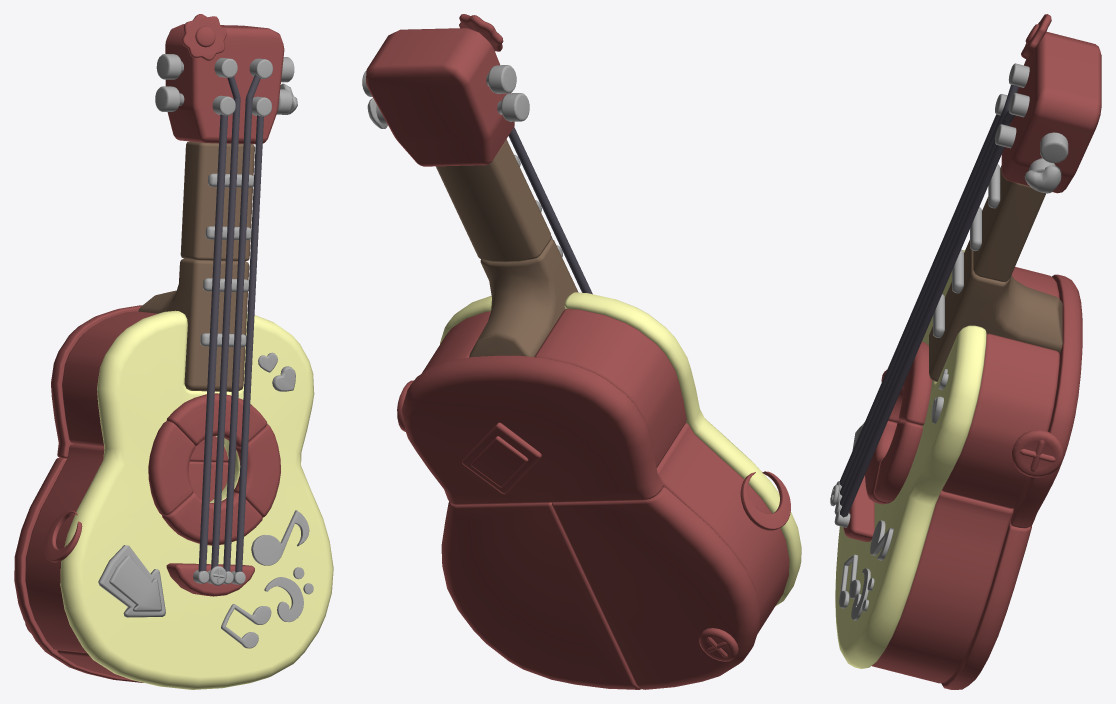
File: Guitar_Fix01.fbx
3 renders of one model, left to right at view 1: azimuth 30°, elevation 25°; view 2: azimuth 150°, elevation 25°; view 3: azimuth 270°, elevation 25°, orthographic. The views are drawn at different scales.
Visible parts, largest first — view 1: S_Guitar_13, S_Guitar_14, M_Guitar_19, M_Guitar_24, M_Guitar_15, M_Guitar_12, M_Guitar_22, M_Guitar_29, D_MotorBike_17, M_Guitar_6, M_Guitar_17, M_Guitar_20 (+12 smaller); view 2: M_Guitar_20, M_Guitar_6, M_Guitar_16, M_Guitar_19, M_Guitar_22, M_Guitar_24, M_Guitar_12, M_Guitar_15, S_Guitar_13, D_MotorBike_25, S_Guitar_14, M_Guitar_25 (+5 smaller); view 3: S_Guitar_13, M_Guitar_23, M_Guitar_25, M_Guitar_19, S_Guitar_14, M_Guitar_15, M_Guitar_20, M_Guitar_12, M_Guitar_16, M_Guitar_17, D_MotorBike_26, M_Guitar_21 (+10 smaller).
Boxes of the visible parts, left/top/right/bottom form: S_Guitar_13: left=60, top=310, right=333, bottom=689; S_Guitar_14: left=198, top=74, right=263, bottom=572; M_Guitar_19: left=165, top=24, right=284, bottom=144; M_Guitar_24: left=25, top=443, right=104, bottom=653; M_Guitar_15: left=138, top=258, right=249, bottom=391; M_Guitar_12: left=180, top=141, right=254, bottom=261; M_Guitar_22: left=62, top=311, right=157, bottom=446; M_Guitar_29: left=148, top=421, right=195, bottom=515; D_MotorBike_17: left=98, top=545, right=165, bottom=617; M_Guitar_6: left=14, top=457, right=143, bottom=682; M_Guitar_17: left=234, top=424, right=280, bottom=517; M_Guitar_20: left=51, top=305, right=228, bottom=462; M_Guitar_20: left=401, top=355, right=663, bottom=504; M_Guitar_6: left=552, top=487, right=759, bottom=689; M_Guitar_16: left=441, top=501, right=640, bottom=689; M_Guitar_19: left=366, top=28, right=514, bottom=166; M_Guitar_22: left=534, top=308, right=686, bottom=467; M_Guitar_24: left=656, top=423, right=789, bottom=633; M_Guitar_12: left=436, top=139, right=550, bottom=262; M_Guitar_15: left=469, top=238, right=578, bottom=357; S_Guitar_13: left=440, top=292, right=801, bottom=605; D_MotorBike_25: left=462, top=422, right=541, bottom=494; S_Guitar_14: left=508, top=127, right=592, bottom=294; M_Guitar_25: left=421, top=311, right=490, bottom=373; S_Guitar_13: left=835, top=250, right=986, bottom=668; M_Guitar_23: left=872, top=491, right=1013, bottom=683; M_Guitar_25: left=941, top=333, right=1059, bottom=508; M_Guitar_19: left=1001, top=31, right=1101, bottom=193; S_Guitar_14: left=839, top=85, right=1018, bottom=517; M_Guitar_15: left=929, top=240, right=1062, bottom=381; M_Guitar_20: left=1010, top=274, right=1082, bottom=528; M_Guitar_12: left=973, top=165, right=1046, bottom=281; M_Guitar_16: left=941, top=520, right=1031, bottom=689; M_Guitar_17: left=874, top=421, right=923, bottom=502; D_MotorBike_26: left=1012, top=430, right=1063, bottom=477; M_Guitar_21: left=899, top=341, right=932, bottom=425.
Size of the model in its own units: 420 by 801 by 289.
